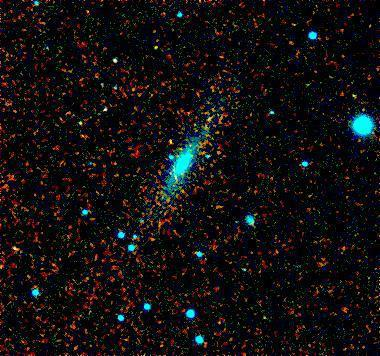star: (159, 122, 189, 152)
